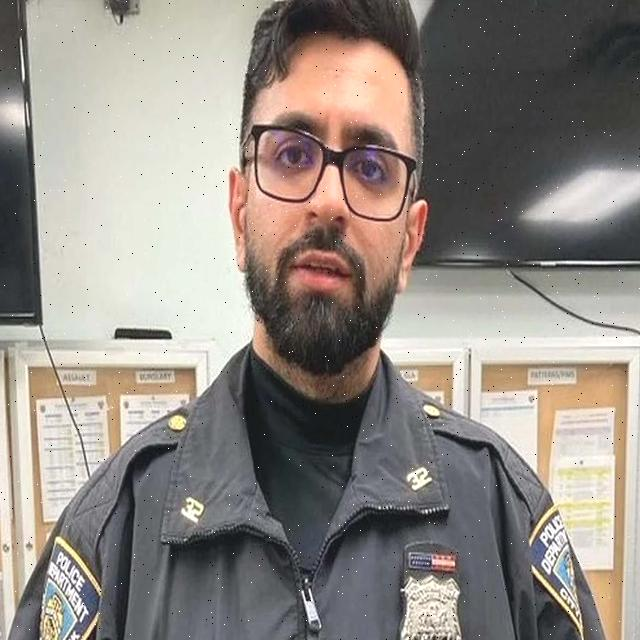police: (34, 0, 611, 640)
